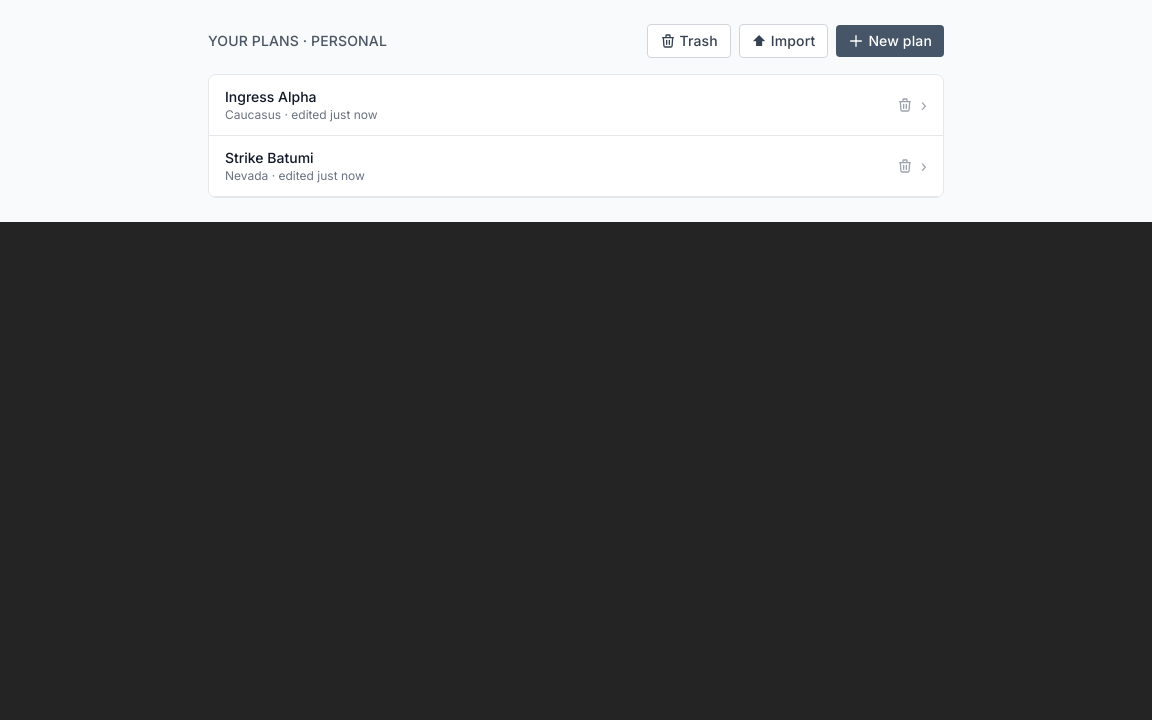
Test: PlansHomePage — deleting plans (add-trash-and-soft-delete 7.1) › a failed delete keeps the dialog open with an error
Click the button named "Delete Ingress Alpha" at (905, 105), box 893,93 -> 917,117
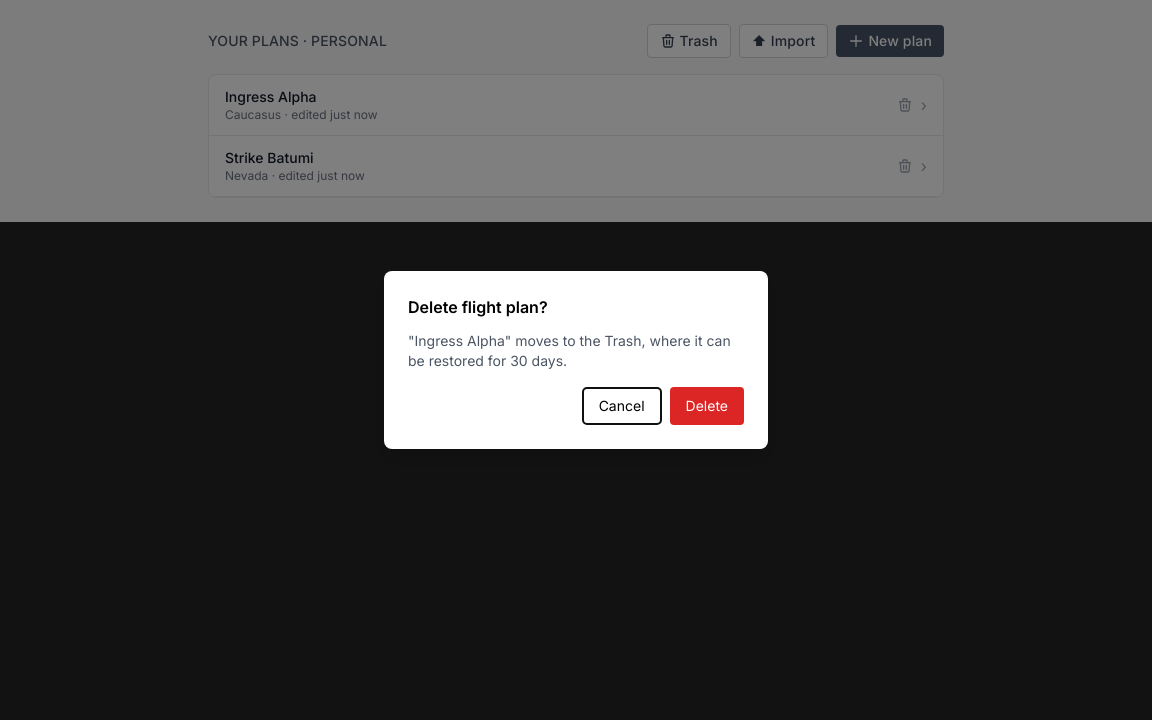
Click the button "Delete" at (707, 406), box 670,387 -> 744,425
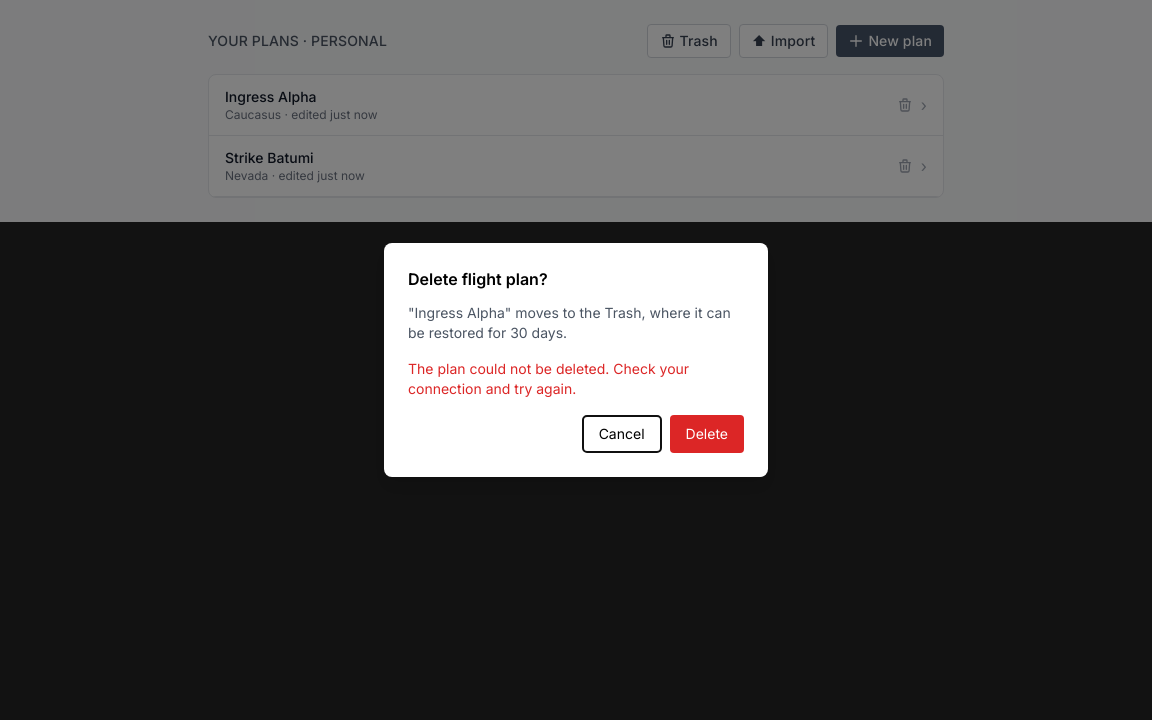
Result: the message shows "could not be deleted" at 408,360 -> 689,397
